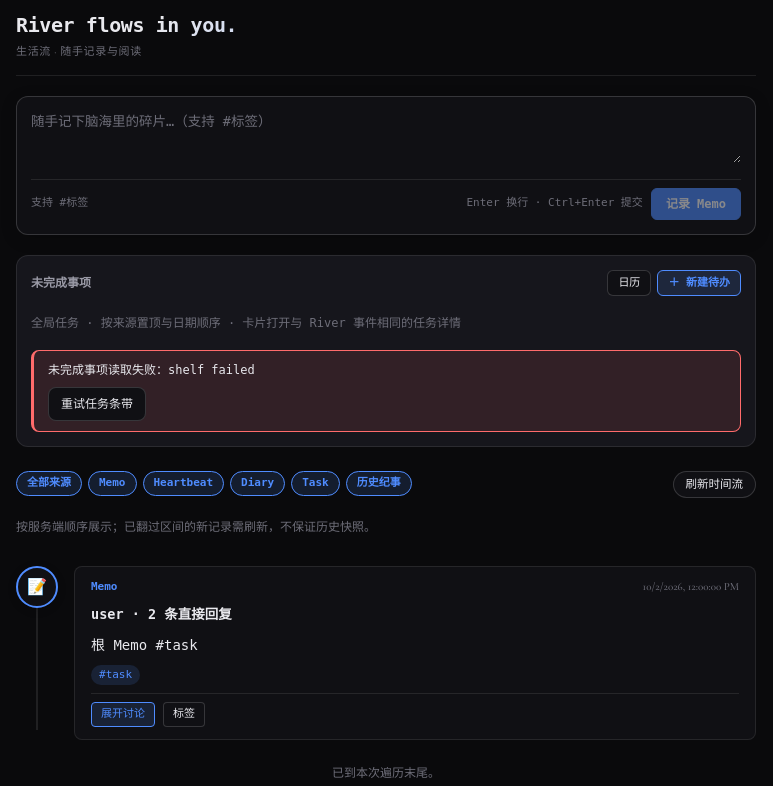
Test: River CP1 read page › shows shelf failure separately without manufacturing empty tasks, and explicit retry recovers
expect the text "根 Memo #task" is shown: met, box [91, 637, 198, 653]
expect the message shows "未完成事项读取失败": met, box [48, 363, 168, 377]
What coordinates should you click on to do the following:
click the button "重试任务条带"
I would click on:
 (97, 404)
Its box is [48, 387, 146, 421].
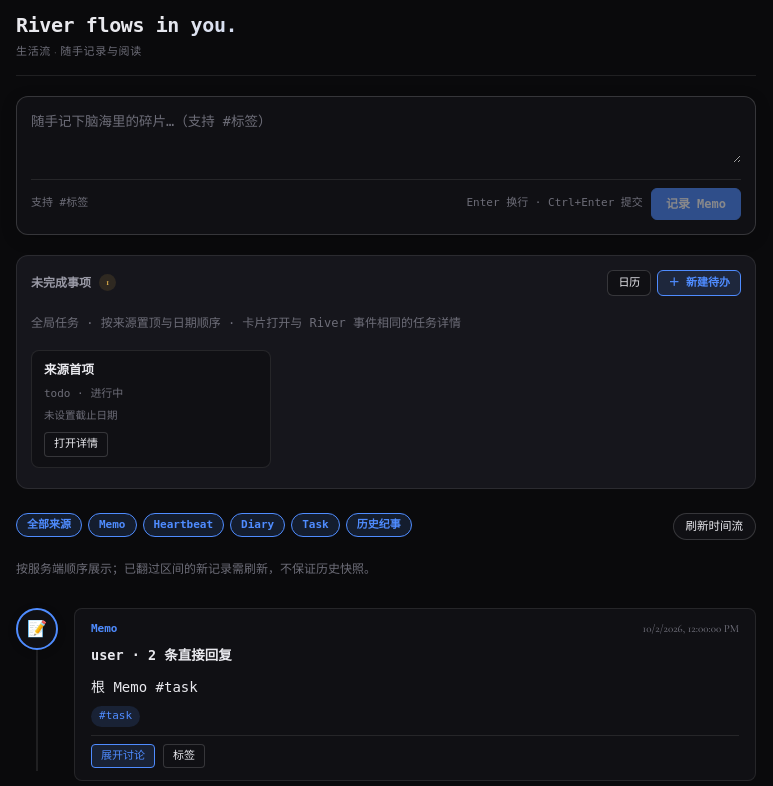
expect the heading "来源首项" is shown: met, box [44, 362, 94, 377]
